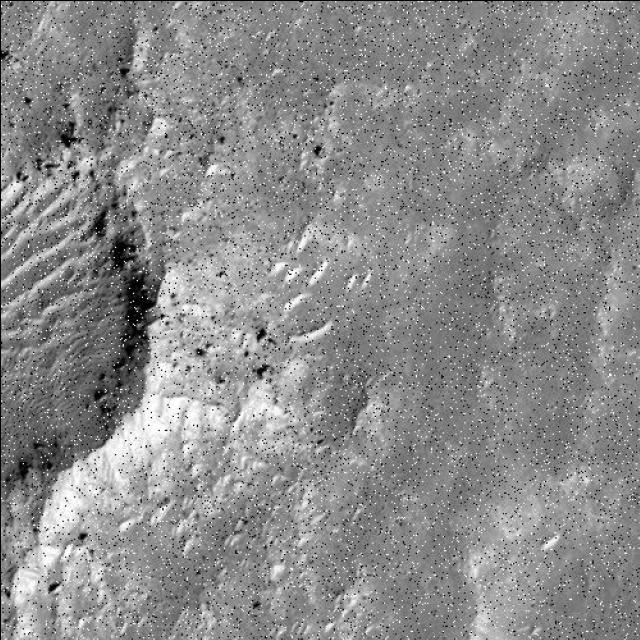crater: (0, 127, 151, 500), (458, 586, 562, 640), (561, 154, 635, 222)
